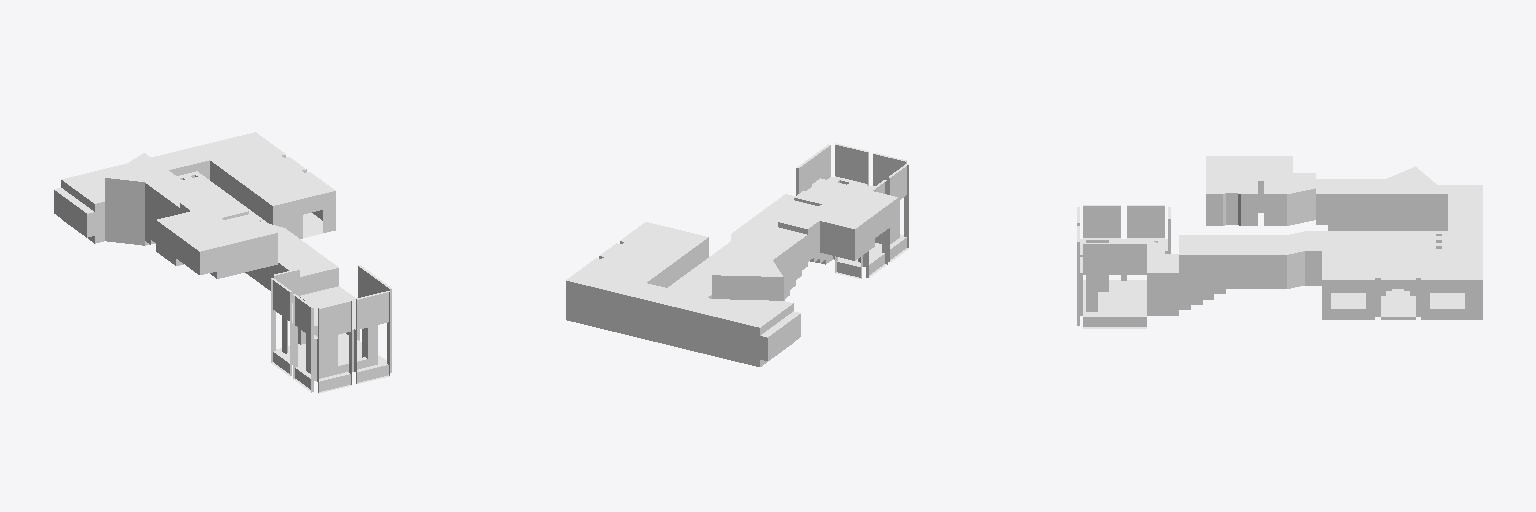
File: map01_sect04.obj
The picture shows the model from 3 angles: view 1: azimuth 30°, elevation 25°; view 2: azimuth 150°, elevation 25°; view 3: azimuth 270°, elevation 25°; orthographic projection.
Parts seen in each view (by area): view 1: MAP01; view 2: MAP01; view 3: MAP01.
Boxes of the visible parts, x1=… form: MAP01: x1=54, y1=132, x2=391, y2=393; MAP01: x1=566, y1=143, x2=908, y2=366; MAP01: x1=1077, y1=156, x2=1482, y2=328.
Bounding box in the file's own units: 1280 × 656 × 2224.